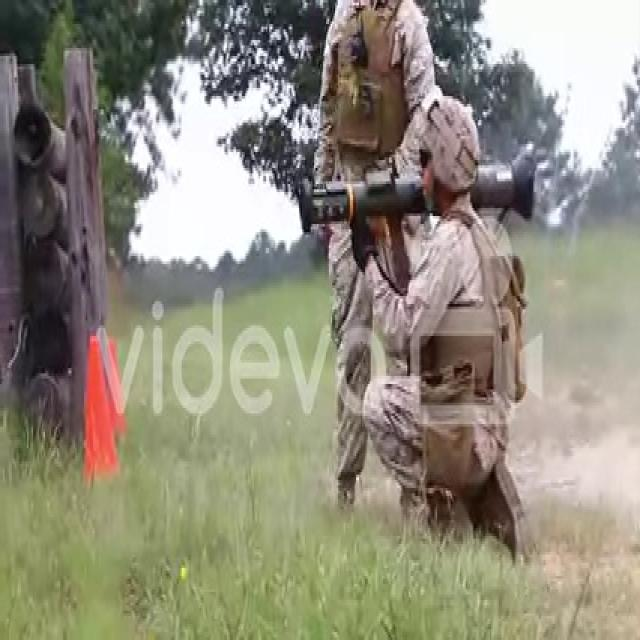bazooka: (291, 145, 541, 234)
